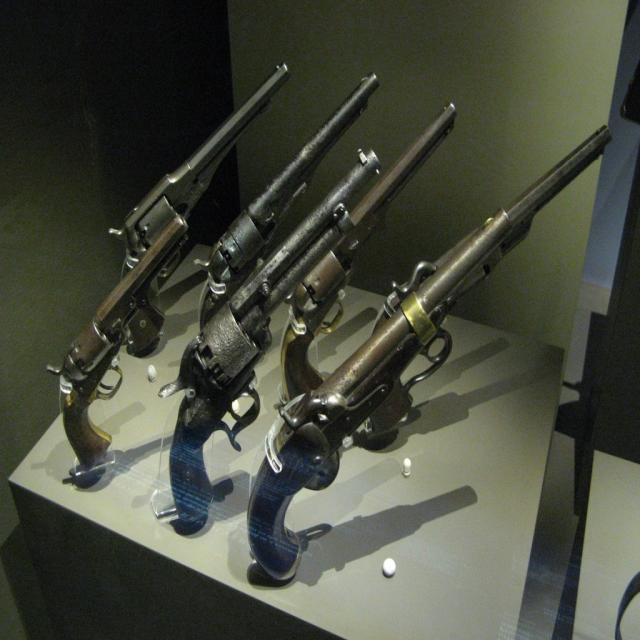Gun: (247, 213, 511, 587), (351, 127, 611, 451), (160, 152, 380, 530), (282, 104, 457, 399), (200, 75, 378, 338), (46, 217, 189, 467), (121, 64, 290, 271), (127, 297, 164, 358), (382, 289, 411, 319)
